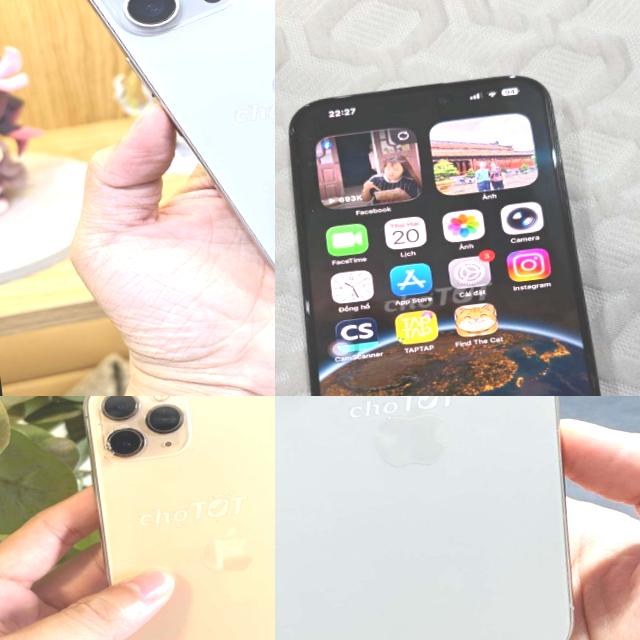gen_11: (69, 396, 275, 640)
gen_15: (275, 49, 625, 396), (275, 396, 621, 640)
gen_16: (66, 0, 275, 330)
scratch: (549, 148, 559, 168), (303, 296, 311, 314), (285, 126, 297, 136), (508, 72, 518, 80), (302, 101, 310, 108)
